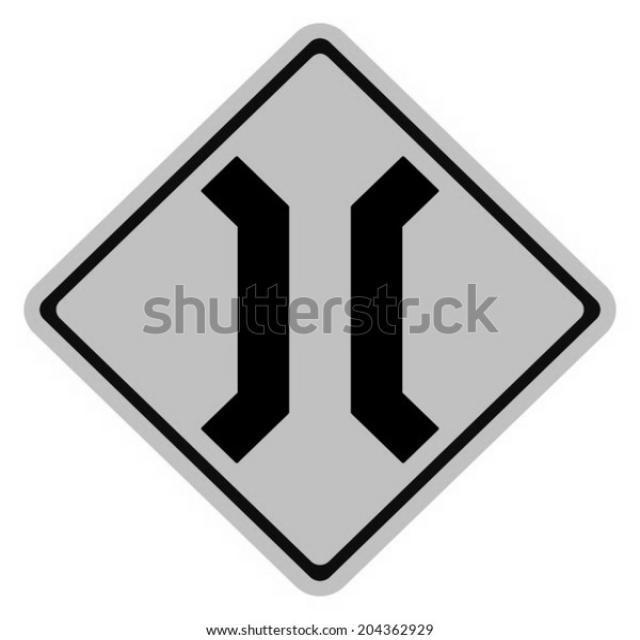narrow bridge ahead: (20, 22, 614, 596)
